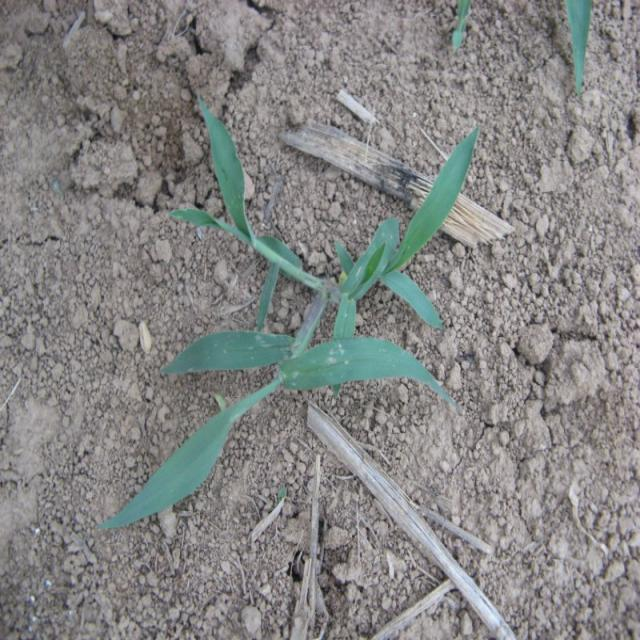bg: (98, 103, 487, 525)
